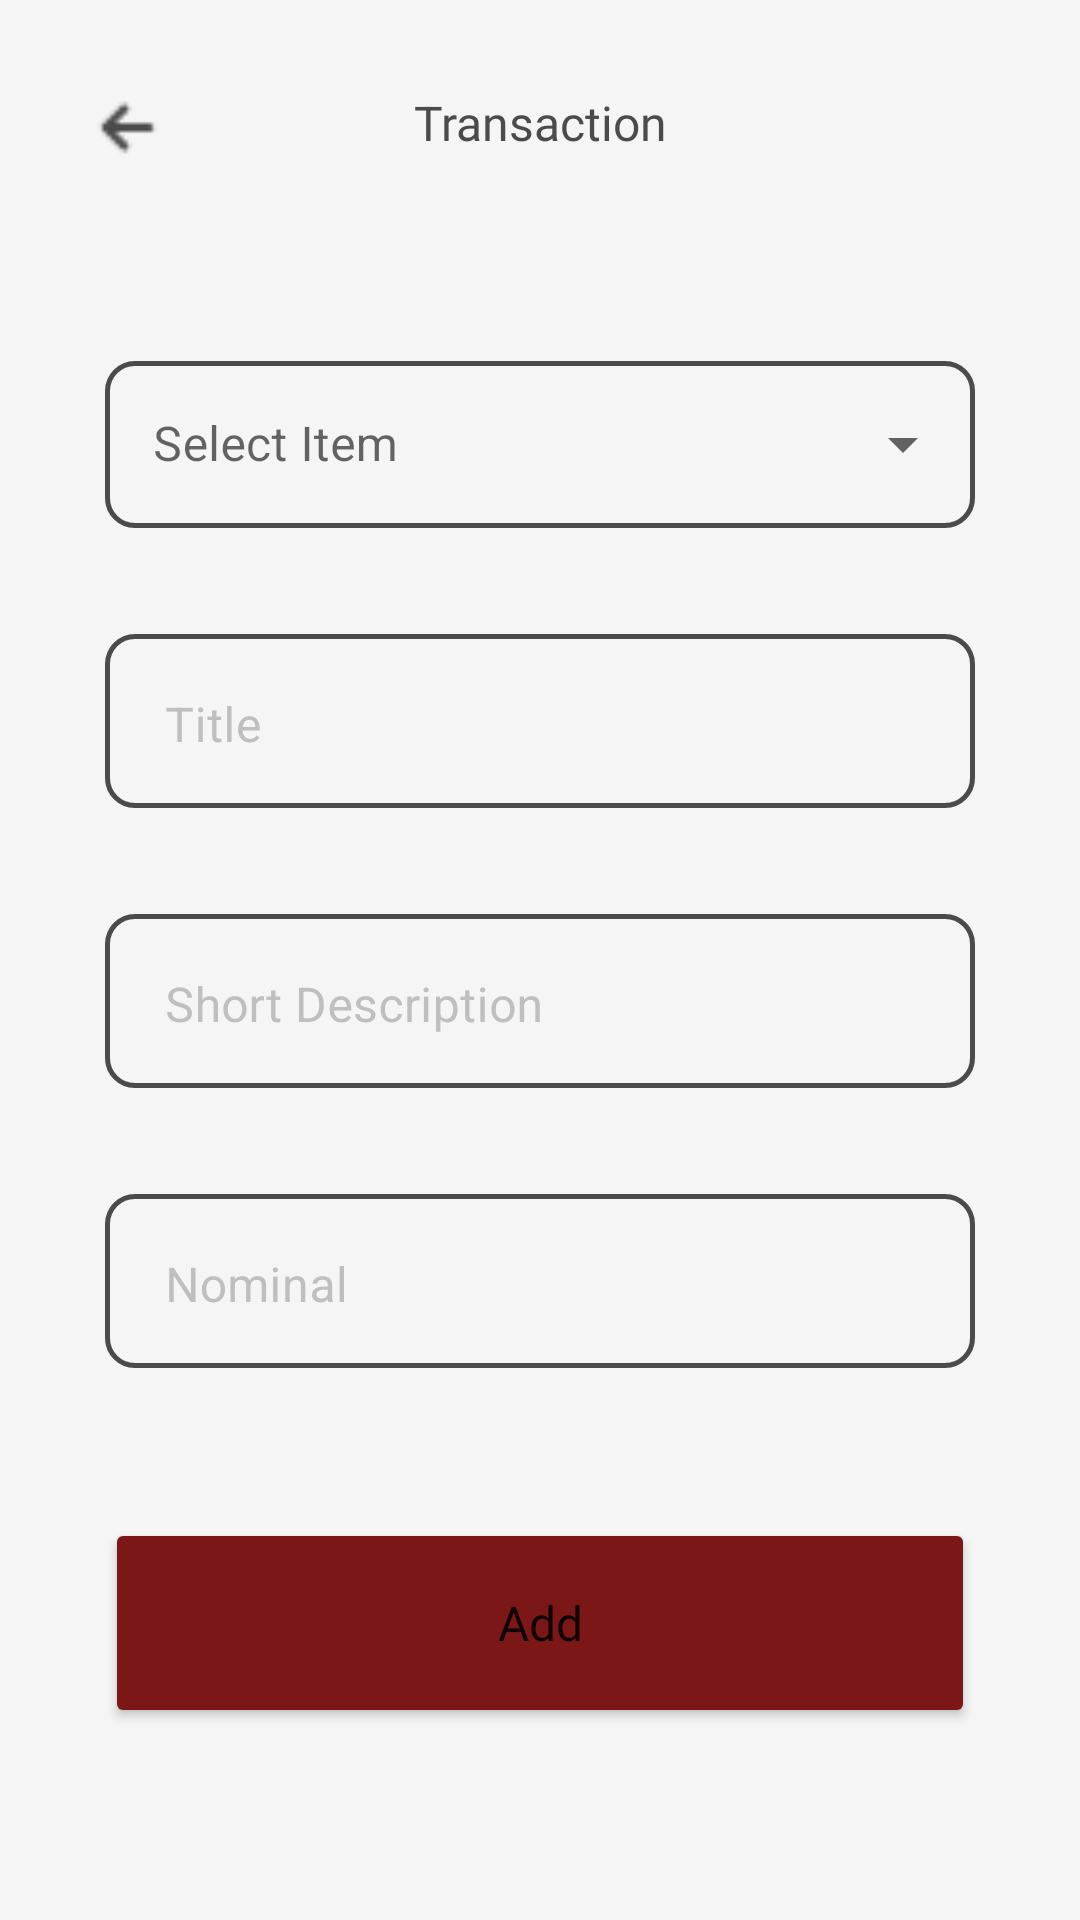

Named icons in this screenshot (1080*1920) and their centers, [x,y]:
back: [127,127]
